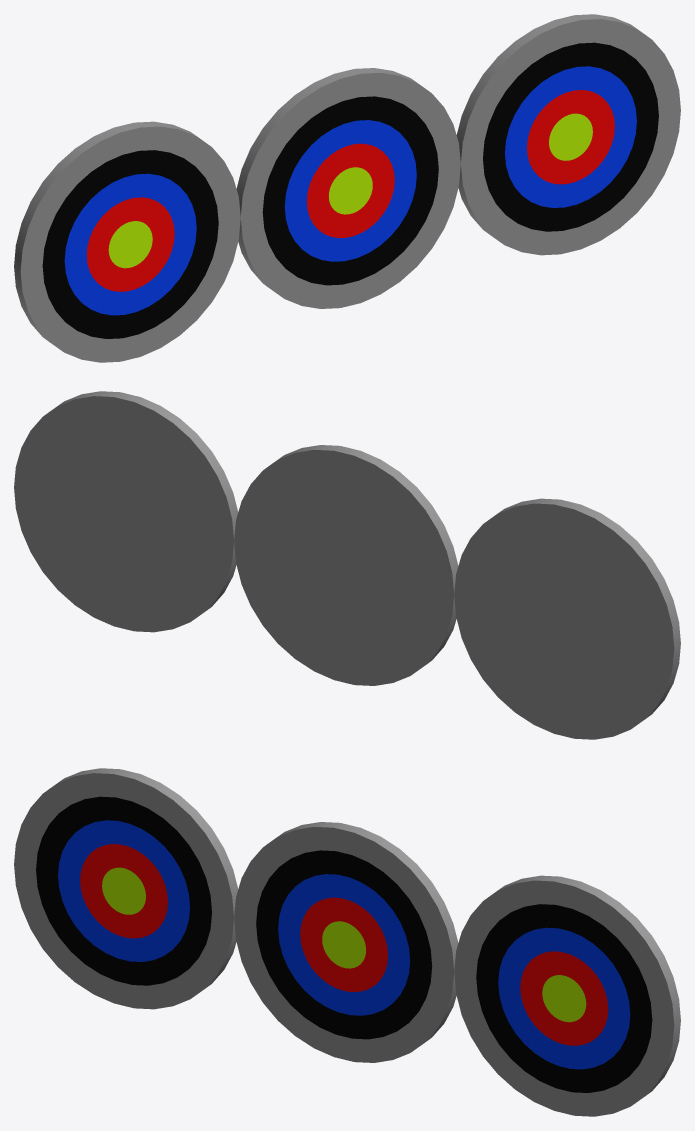
3 views of the same model, one above another, from view 1: azimuth 30°, elevation 25°; view 2: azimuth 150°, elevation 25°; view 3: azimuth 330°, elevation 25° (orthographic).
Parts seen in each view (by area): view 1: Cylinder009; view 2: Cylinder009; view 3: Cylinder009.
Part boxes in pixels (x1=…): Cylinder009: x1=14, y1=14, x2=680, y2=362; Cylinder009: x1=14, y1=391, x2=680, y2=739; Cylinder009: x1=14, y1=768, x2=680, y2=1116.
Bounding box in the file's own units: 6 × 1.99 × 0.1046.
